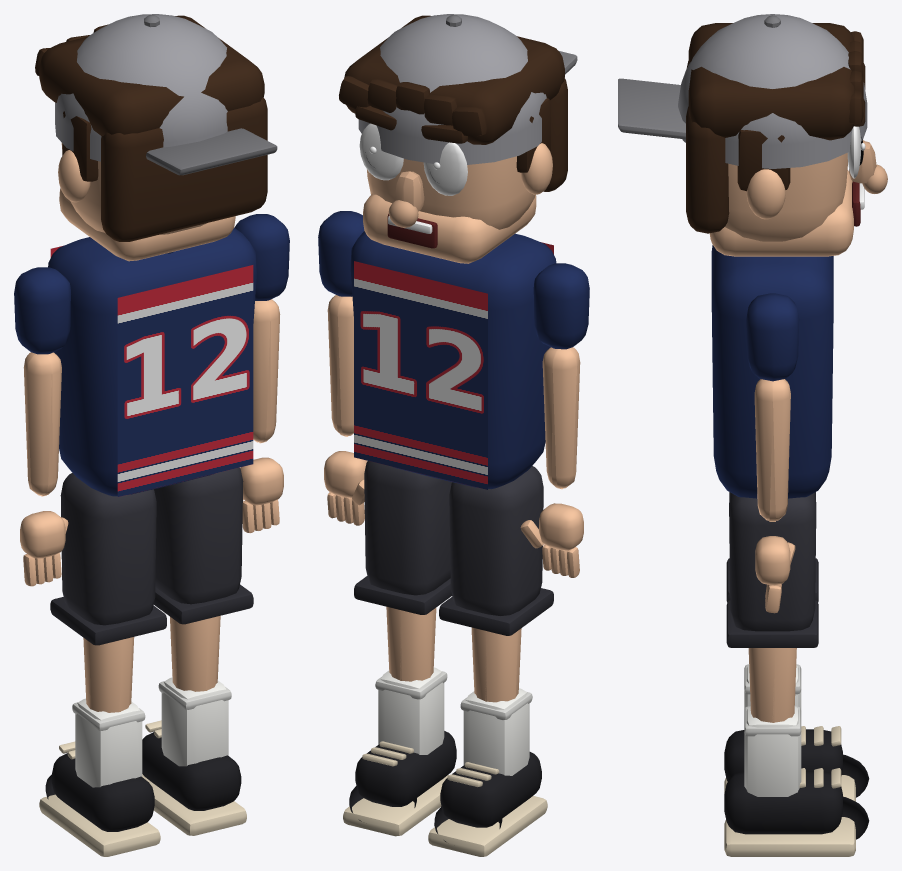
File: jock.glb
3 renders of one model, left to right at view 1: azimuth 30°, elevation 25°; view 2: azimuth 150°, elevation 25°; view 3: azimuth 270°, elevation 25°, orthographic.
Parts seen in each view (by area): view 1: torso, legL, legR, hair_head_hair_16, hat_head_hat_17, armL, hairtop_head_hair_16, armR, head, hat_head_hat2_18; view 2: torso, legL, legR, head, hat_head_hat_17, armL, hairtop_head_hair_16, armR, hair_head_hair_16; view 3: legR, torso, head, hat_head_hat_17, armR, hairtop_head_hair_16, hair_head_hair_16, legL, hat_head_hat2_18.
Boxes of the visible parts, <box> form: torso: <box>48,227,256,496</box>; legL: <box>39,473,166,856</box>; legR: <box>142,467,253,835</box>; hair_head_hair_16: <box>62,97,267,241</box>; hat_head_hat_17: <box>55,14,227,161</box>; armL: <box>14,267,70,586</box>; hairtop_head_hair_16: <box>35,15,264,135</box>; armR: <box>234,214,289,533</box>; head: <box>58,143,235,261</box>; hat_head_hat2_18: <box>144,15,277,175</box>; torso: <box>350,231,556,489</box>; legL: <box>428,466,553,856</box>; legR: <box>343,461,456,836</box>; head: <box>355,106,552,263</box>; hat_head_hat_17: <box>358,14,546,164</box>; armL: <box>520,263,589,577</box>; hairtop_head_hair_16: <box>339,15,564,144</box>; armR: <box>318,211,366,525</box>; hair_head_hair_16: <box>516,78,567,191</box>; legR: <box>724,493,869,856</box>; torso: <box>711,245,833,498</box>; head: <box>709,63,887,256</box>; hat_head_hat_17: <box>678,14,867,168</box>; armR: <box>746,293,799,613</box>; hairtop_head_hair_16: <box>688,23,863,140</box>; hair_head_hair_16: <box>686,61,790,233</box>; legL: <box>724,492,869,801</box>; hat_head_hat2_18: <box>618,15,780,139</box>.
Size of the model in its own units: 0.6959 by 2.03 by 0.6149.
20 materials, 2 textured.
